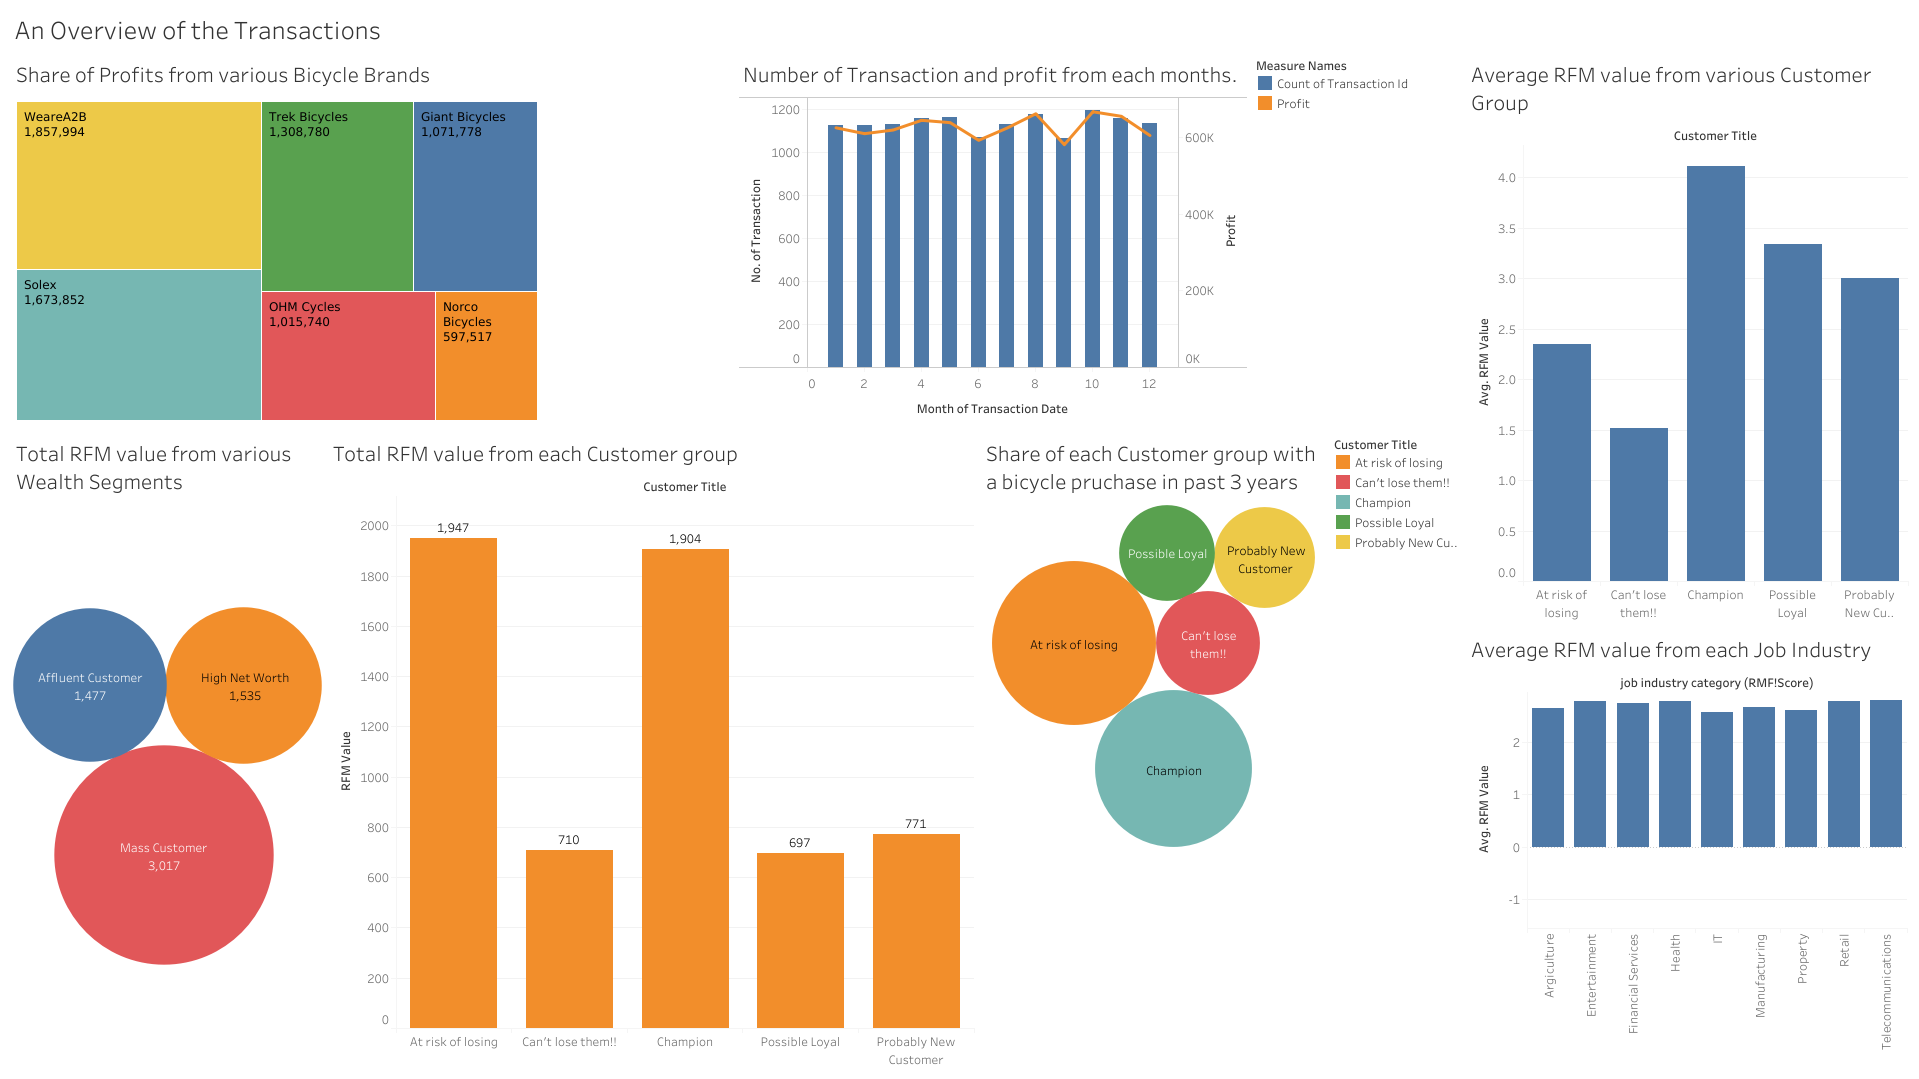

This screenshot's page, from the dashboard's own definition file:
{"tool":"tableau","page":{"name":"Dashboard 2","canvas":[1000,1000],"units":"permille","ordinal":0},"visuals":[{"type":"worksheet","box":[0,0,1000,1000]},{"type":"worksheet","param":"horz","box":[7.8,12.4,984.4,975.2]},{"type":"worksheet","box":[7.8,12.4,828.1,975.2]},{"type":"worksheet","title":"Sheet 1","mark":"Square","box":[7.8,12.4,414.1,243.8]},{"type":"worksheet","title":"Sheet 4","mark":"Automatic","rows":["transaction_id","Profit"],"cols":["transaction_date"],"box":[421.9,12.4,414.1,243.8]},{"type":"worksheet","param":"vert","box":[835.9,12.4,156.2,975.2]},{"type":"worksheet","title":"Sheet 4","mark":"Automatic","rows":["transaction_id","Profit"],"cols":["transaction_date"],"param":"[federated.099c6vk11vjtlv131qz5t1mza633].[:Measure Names]","box":[835.9,12.4,156.2,102.5]},{"type":"worksheet","title":"Sheet 5","mark":"Automatic","rows":["RFM_Value"],"cols":["Customer_Title"],"box":[835.9,114.9,156.2,646]},{"type":"worksheet","title":"Sheet 3","mark":"Circle","box":[7.8,256.2,828.1,162.5]},{"type":"worksheet","title":"Sheet 7","mark":"Circle","box":[7.8,418.7,828.1,162.5]},{"type":"worksheet","title":"Sheet 6","mark":"Automatic","rows":["RFM_Value"],"cols":["Customer_Title"],"box":[7.8,581.2,828.1,162.6]},{"type":"worksheet","title":"Sheet 2","mark":"Automatic","rows":["RFM_Value"],"cols":["job_industry_category (RMF!Score)"],"box":[7.8,743.8,828.1,243.8]},{"type":"worksheet","title":"Sheet 7","mark":"Circle","param":"[federated.099c6vk11vjtlv131qz5t1mza633].[none:Customer_Title:nk]","box":[835.9,760.9,156.2,226.7]}]}

Visuals, with their boxes on the dashboard's canvas, which has no fixed pixel size, in thousandths of its width and height (x1, y1, x2, y2). These are canvas units, not pixel positions in the 1919x1079 screenshot, which may show the page scaled, cropped or inside an application window:
worksheet: region(0, 0, 1000, 1000)
worksheet: region(8, 12, 992, 988)
worksheet: region(8, 12, 836, 988)
"Sheet 1" worksheet (Square marks): region(8, 12, 422, 256)
"Sheet 4" worksheet: region(422, 12, 836, 256)
worksheet: region(836, 12, 992, 988)
"Sheet 4" worksheet: region(836, 12, 992, 115)
"Sheet 5" worksheet: region(836, 115, 992, 761)
"Sheet 3" worksheet (Circle marks): region(8, 256, 836, 419)
"Sheet 7" worksheet (Circle marks): region(8, 419, 836, 581)
"Sheet 6" worksheet: region(8, 581, 836, 744)
"Sheet 2" worksheet: region(8, 744, 836, 988)
"Sheet 7" worksheet (Circle marks): region(836, 761, 992, 988)
